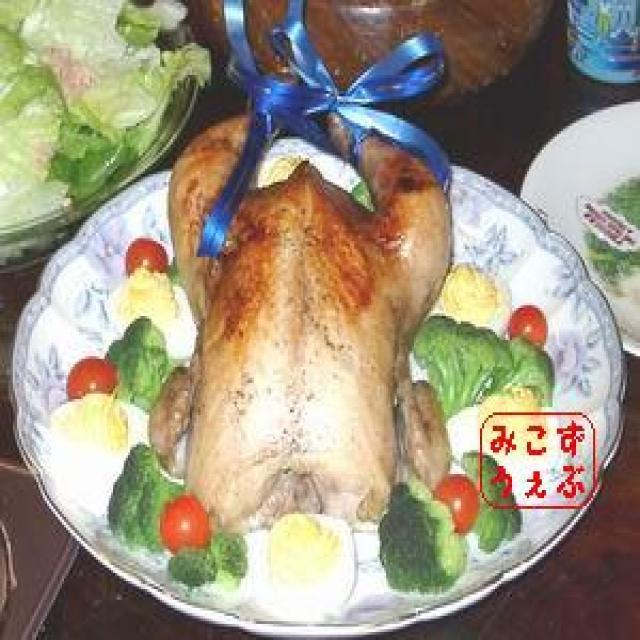Chicken: (185, 145, 403, 529)
